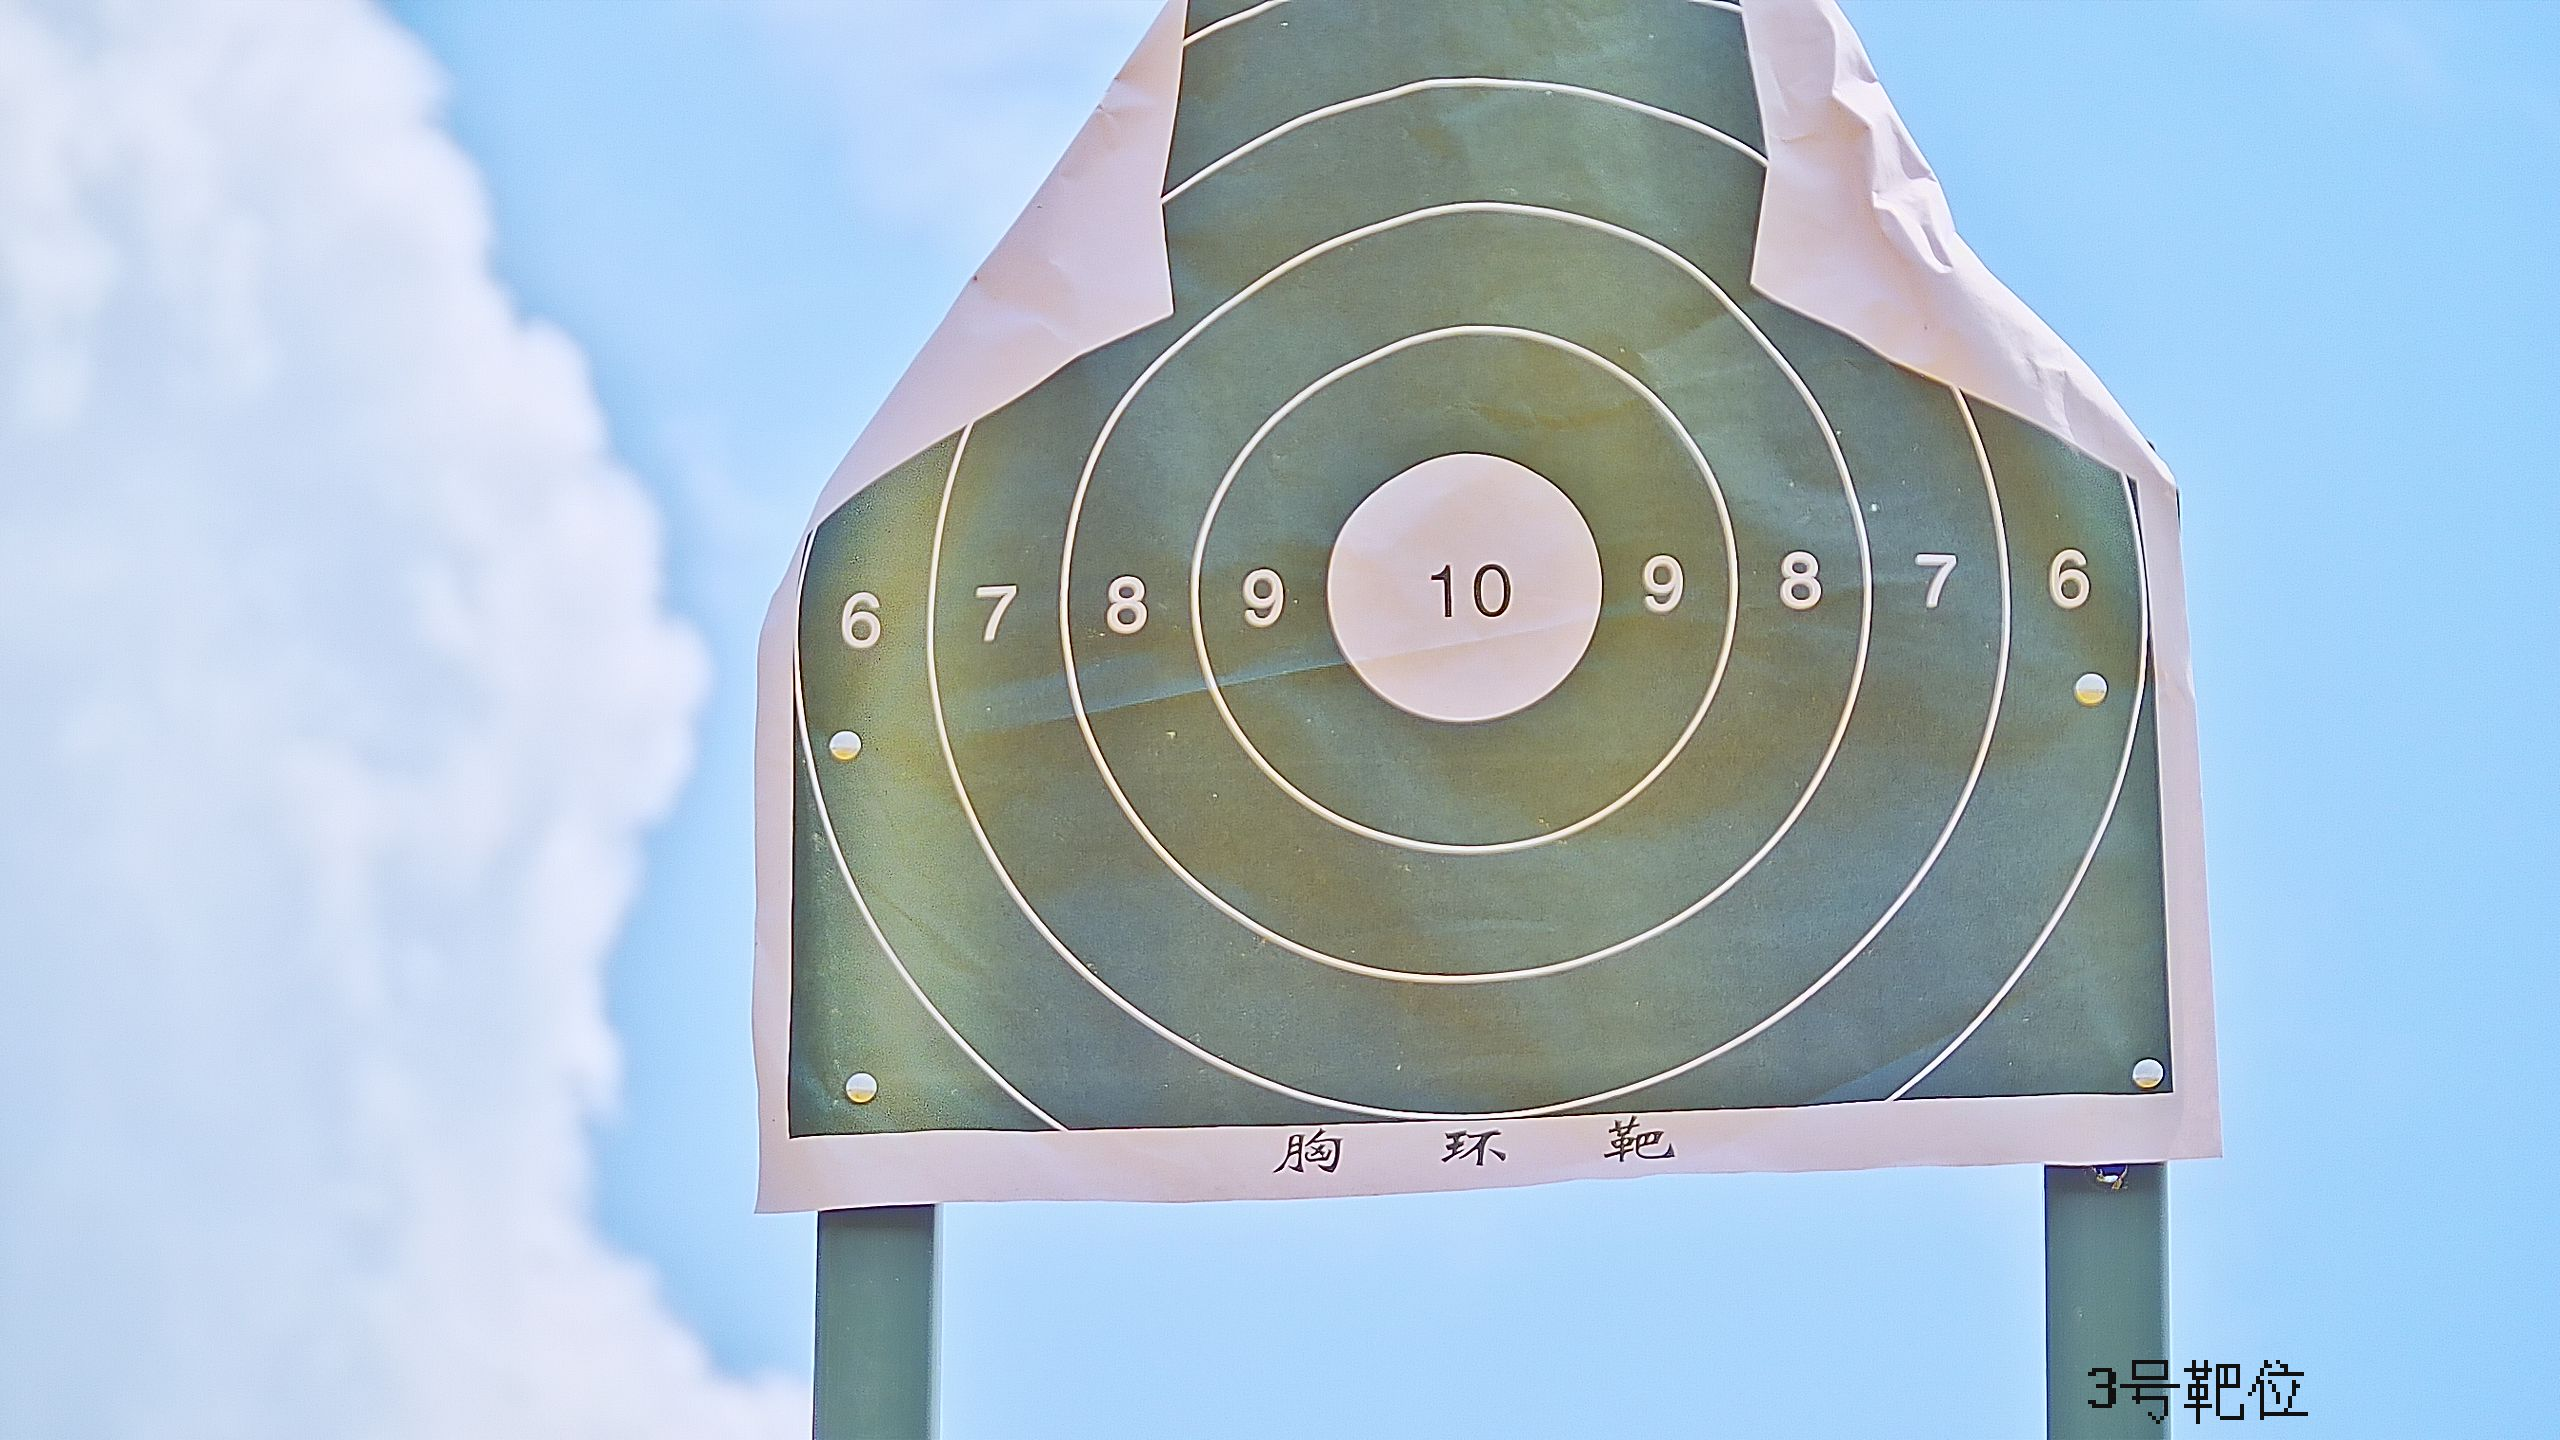target: (788, 7, 2173, 1127), (1456, 587, 1461, 600)
ten: (1329, 448, 1612, 724)
